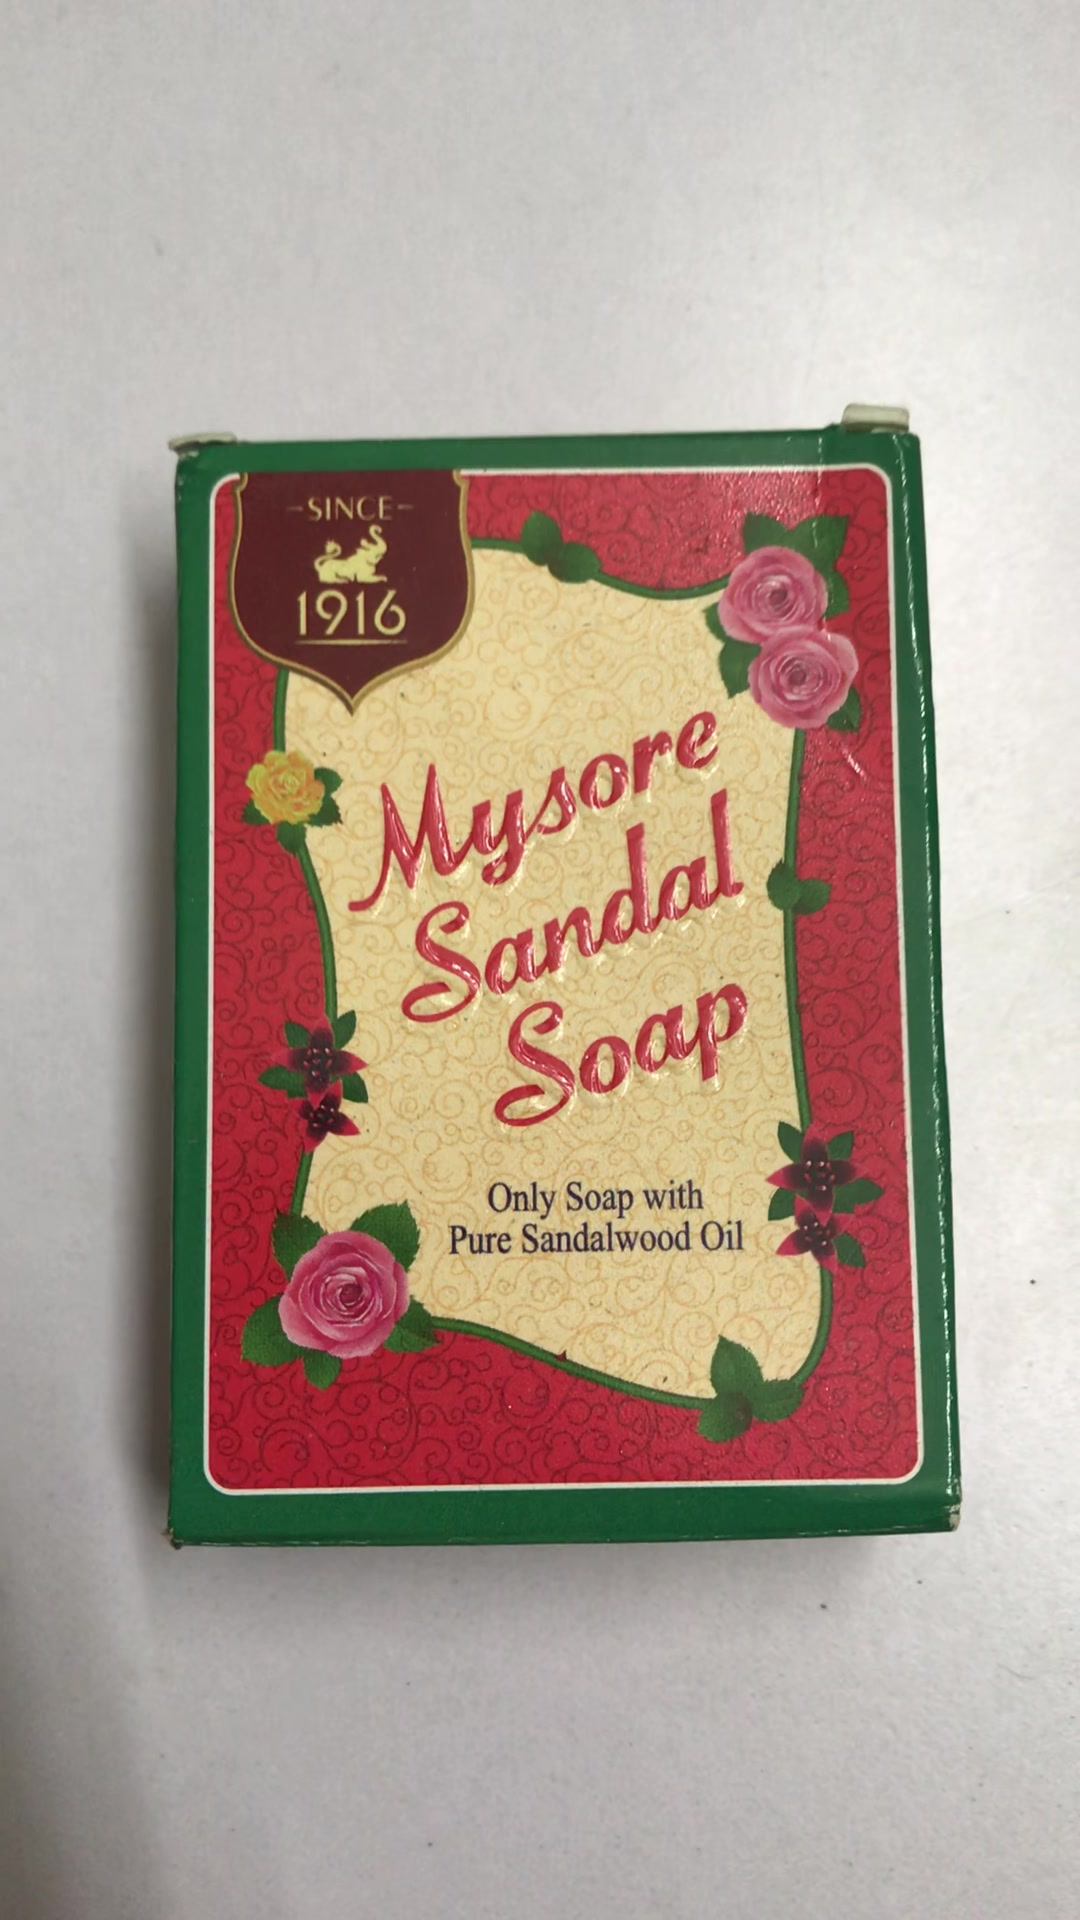mysore sandal soap: (171, 417, 959, 1536)
